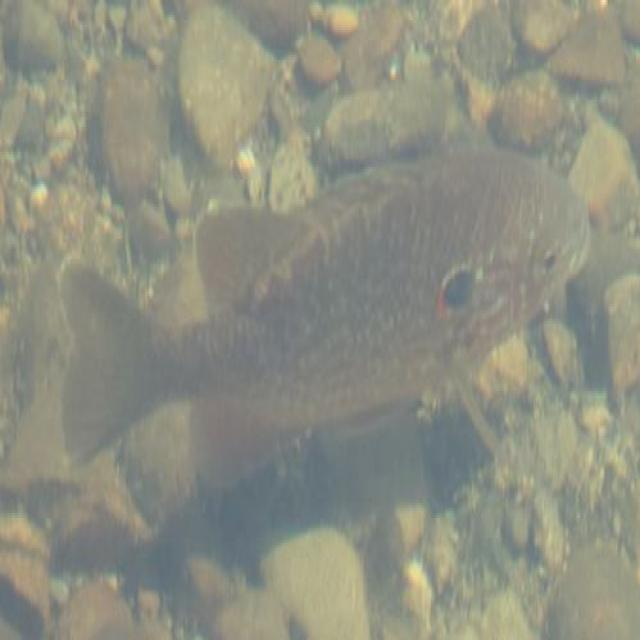Gunes Levregi: (49, 147, 596, 484)
